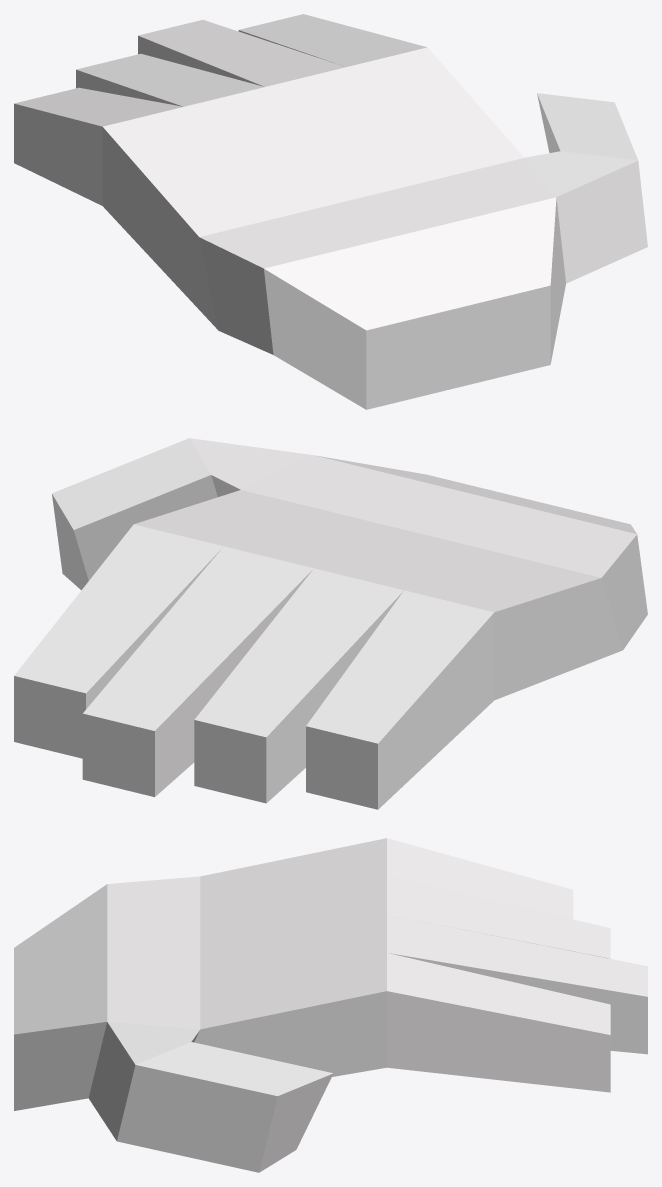
The model's file is hand_left.glb.
3 renders of one model, top to bottom at view 1: azimuth 30°, elevation 25°; view 2: azimuth 150°, elevation 25°; view 3: azimuth 270°, elevation 25°, orthographic. The views are drawn at different scales.
Parts seen in each view (by area): view 1: hand left; view 2: hand left; view 3: hand left.
Part boxes in pixels (left/top/right/bottom): hand left: left=14, top=14, right=647, bottom=409; hand left: left=14, top=438, right=647, bottom=809; hand left: left=14, top=838, right=647, bottom=1172.
Bounding box in the file's own units: 0.75 × 0.25 × 0.9375.
Materials: 1 (1 with a texture image).
